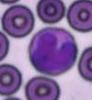M: (28, 26, 78, 76)
